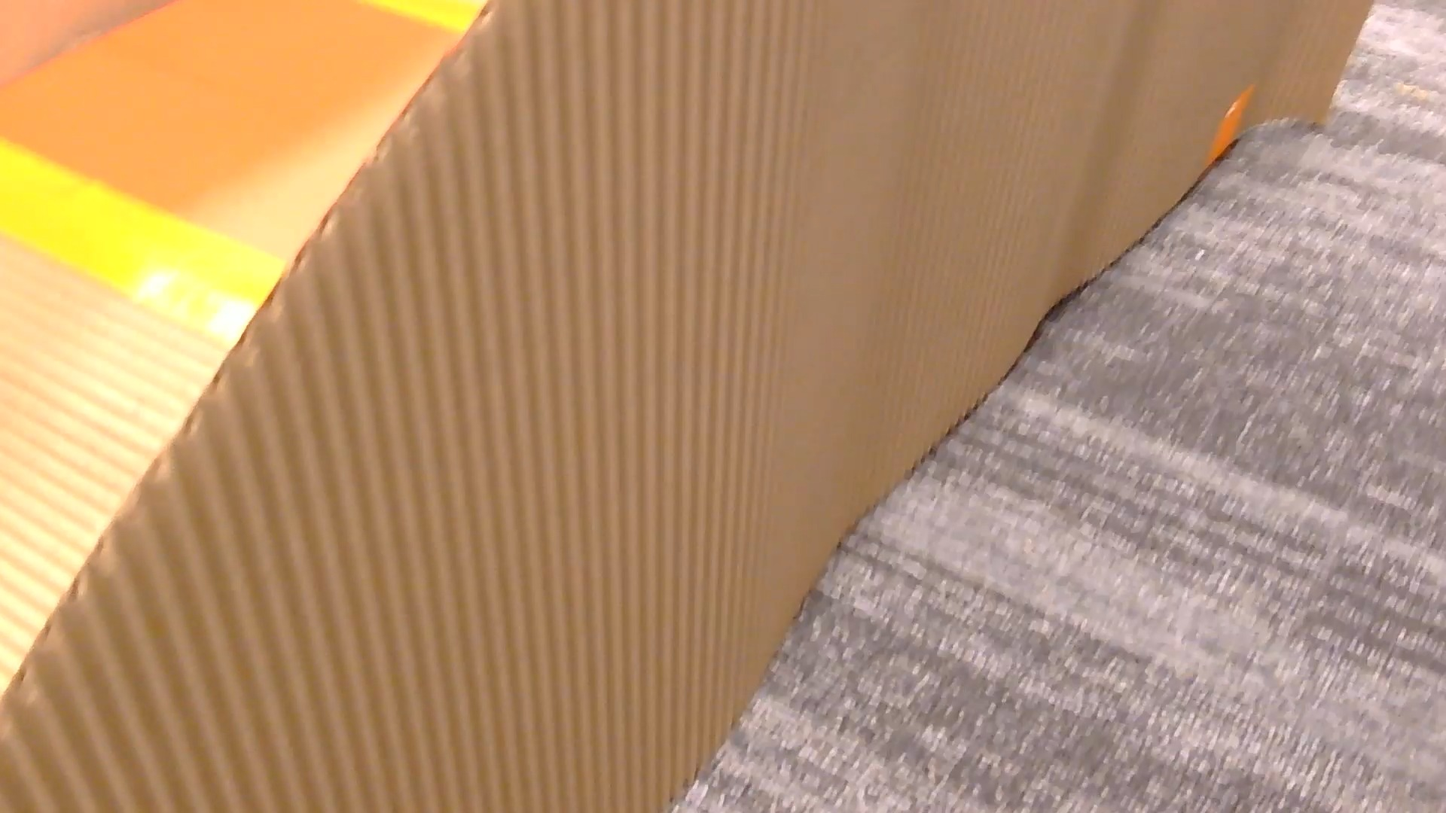Ramp: (0, 0, 1371, 812)
